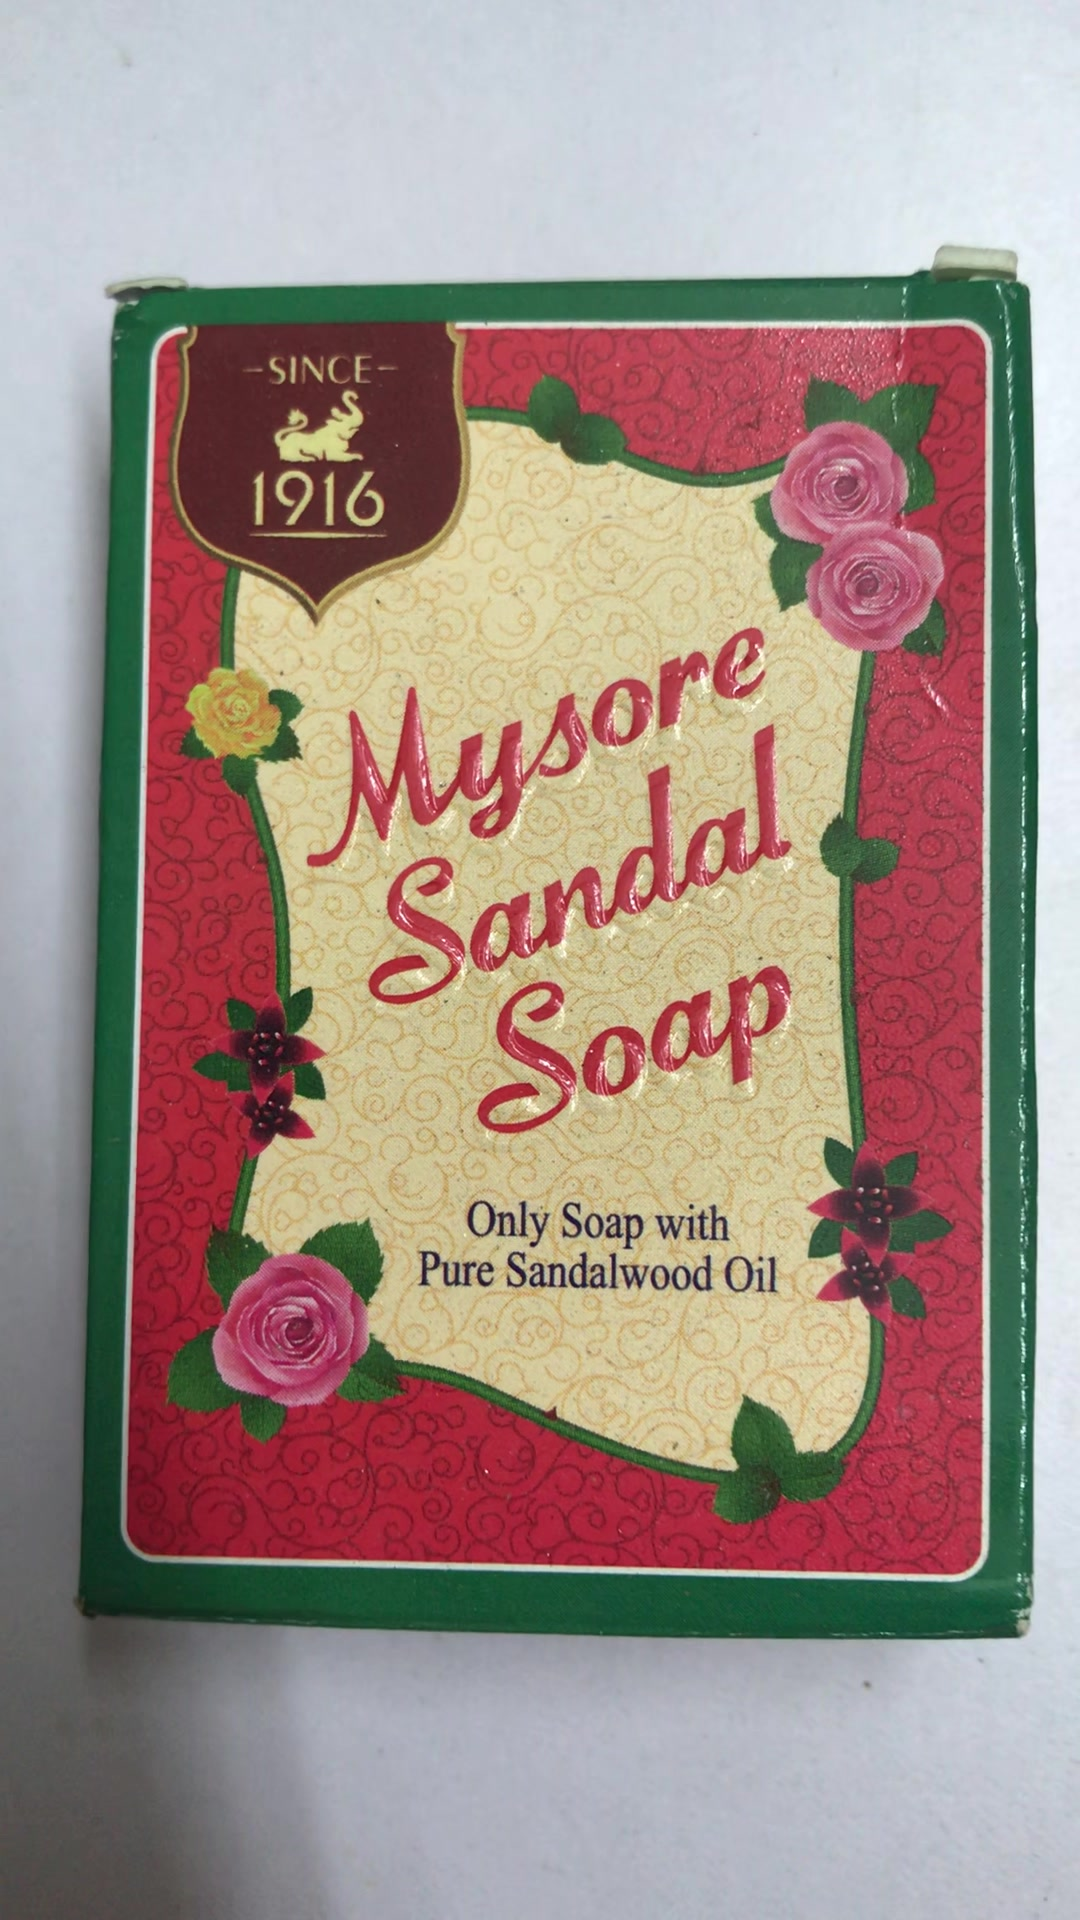mysore sandal soap: (117, 273, 1022, 1627)
